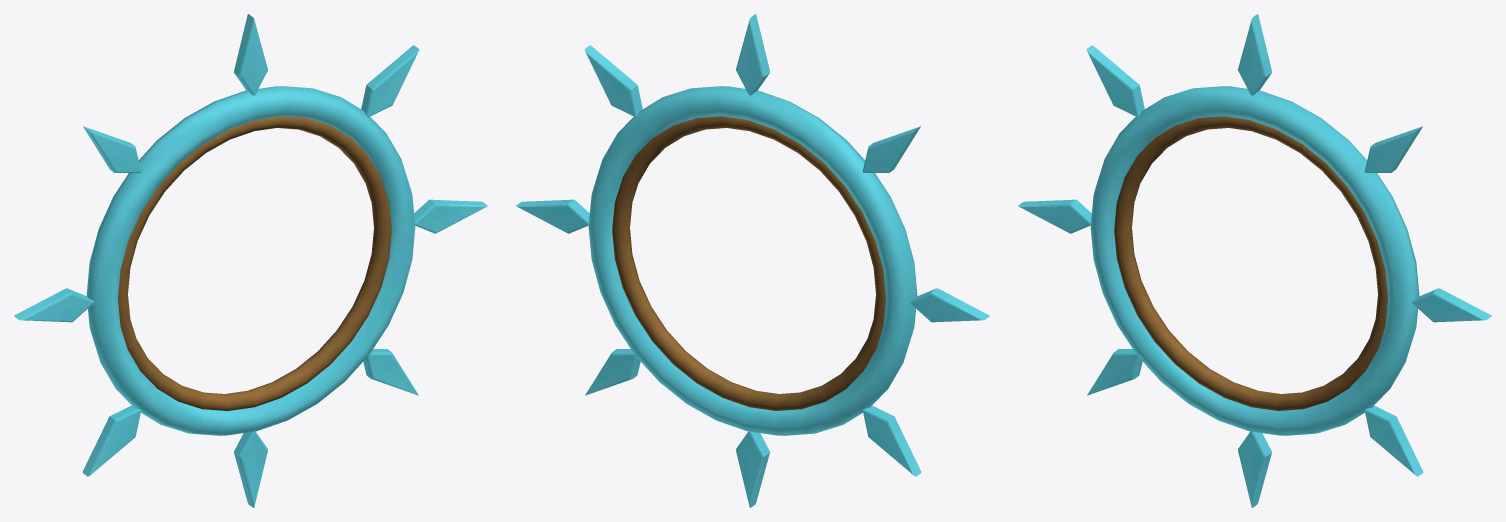
Rendered from void-disc.lod1.glb.
3 views of the same model, side by side, from view 1: azimuth 30°, elevation 25°; view 2: azimuth 150°, elevation 25°; view 3: azimuth 330°, elevation 25° (orthographic).
Parts seen in each view (by area): view 1: crystal.0, brass.1, crystal.3, crystal.7, crystal.2, crystal.8, crystal.6, crystal.4, crystal.9, crystal.5; view 2: crystal.0, brass.1, crystal.3, crystal.7, crystal.2, crystal.8, crystal.6, crystal.4, crystal.9, crystal.5; view 3: crystal.0, brass.1, crystal.5, crystal.9, crystal.2, crystal.4, crystal.6, crystal.8, crystal.3, crystal.7.
Part boxes in pixels (bbox=[...]): crystal.0: bbox=[86, 86, 415, 435]; brass.1: bbox=[118, 116, 391, 410]; crystal.3: bbox=[361, 45, 419, 117]; crystal.7: bbox=[82, 405, 141, 476]; crystal.2: bbox=[234, 14, 267, 95]; crystal.8: bbox=[14, 288, 93, 322]; crystal.6: bbox=[234, 431, 267, 507]; crystal.4: bbox=[414, 199, 487, 233]; crystal.9: bbox=[83, 126, 141, 172]; crystal.5: bbox=[363, 349, 418, 395]; crystal.0: bbox=[588, 86, 917, 435]; brass.1: bbox=[612, 116, 885, 410]; crystal.3: bbox=[584, 45, 642, 117]; crystal.7: bbox=[862, 405, 921, 476]; crystal.2: bbox=[736, 14, 769, 95]; crystal.8: bbox=[910, 288, 989, 322]; crystal.6: bbox=[736, 431, 769, 507]; crystal.4: bbox=[516, 199, 589, 233]; crystal.9: bbox=[862, 126, 920, 172]; crystal.5: bbox=[585, 349, 640, 395]; crystal.0: bbox=[1090, 86, 1419, 435]; brass.1: bbox=[1114, 116, 1387, 410]; crystal.5: bbox=[1364, 405, 1423, 476]; crystal.9: bbox=[1086, 45, 1144, 117]; crystal.2: bbox=[1238, 14, 1271, 95]; crystal.4: bbox=[1412, 288, 1491, 322]; crystal.6: bbox=[1238, 431, 1271, 507]; crystal.8: bbox=[1018, 199, 1091, 233]; crystal.3: bbox=[1364, 126, 1422, 172]; crystal.7: bbox=[1087, 349, 1142, 395].
Size of the model in its own units: 0.5671 by 0.5671 by 0.034.
2 materials, 2 textured.
